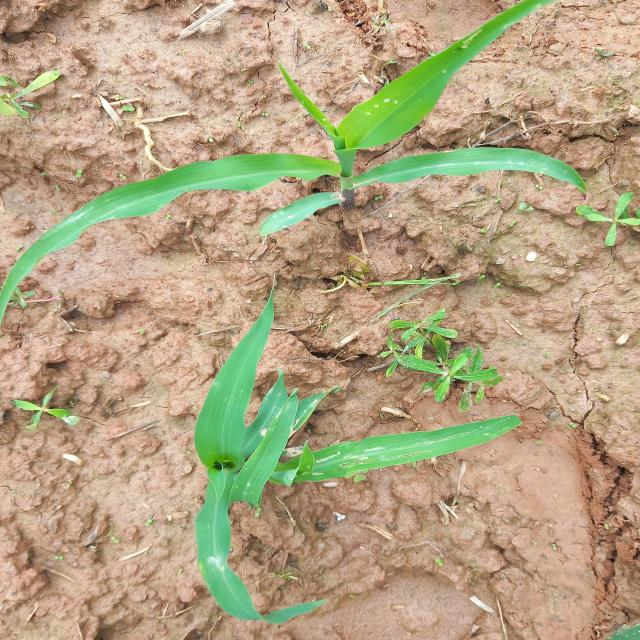maize: (145, 44, 531, 258), (162, 324, 393, 610)
weed: (393, 310, 497, 402), (0, 75, 55, 120), (589, 195, 640, 237), (21, 387, 66, 432)
